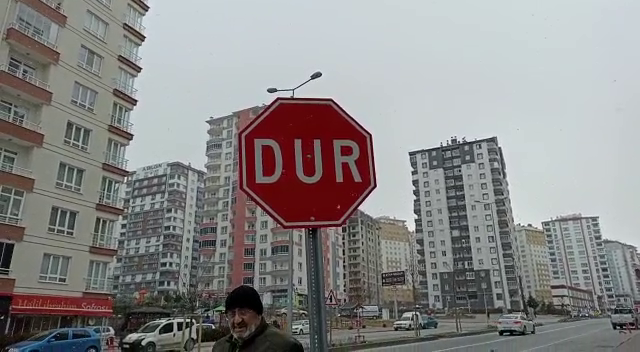stop: (236, 96, 379, 231)
